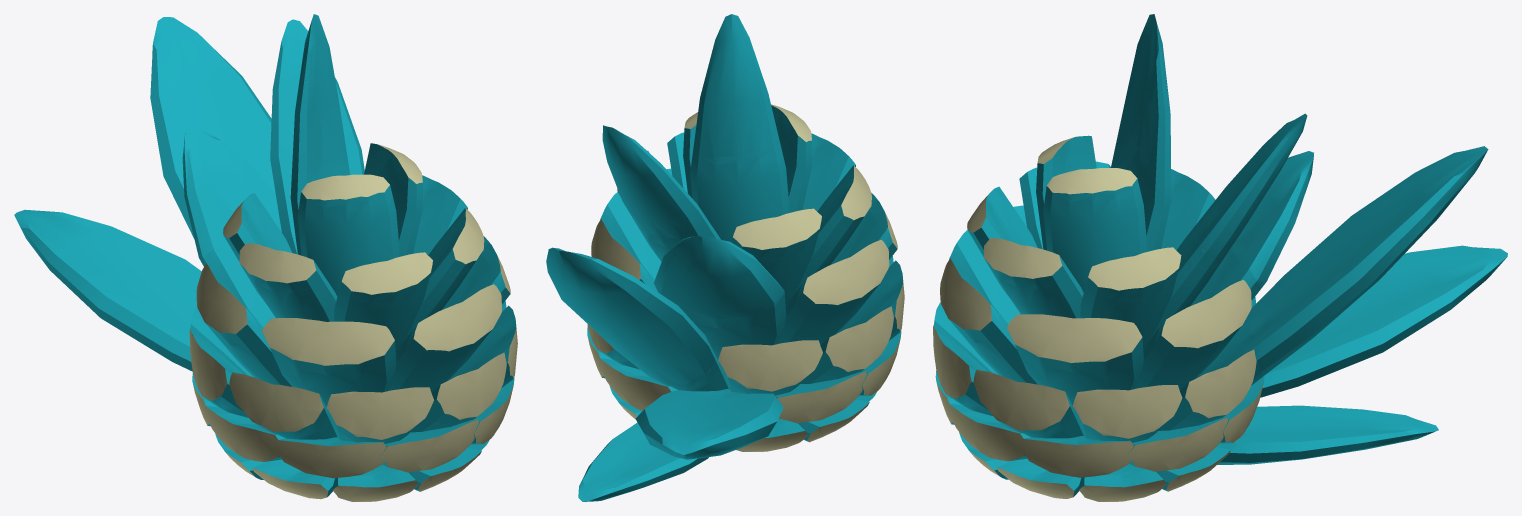
The model's file is _OLD_agave-pianta.glb.
3 views of the same model, side by side, from view 1: azimuth 30°, elevation 25°; view 2: azimuth 150°, elevation 25°; view 3: azimuth 270°, elevation 25° (orthographic). The views are drawn at different scales.
Visible parts, largest first — view 1: agave-04.001, agave-05.001, agave-03.001, foglia-agave-02, agave-06.001, foglia-agave-03, agave-02.001, foglia-agave-04, agave-01.001, foglia-agave-06, foglia-agave-05; view 2: agave-04.001, agave-05.001, foglia-agave-03, agave-03.001, agave-06.001, foglia-agave-06, foglia-agave-04, foglia-agave-02, agave-02.001, foglia-agave-05, foglia-agave-01, agave-01.001; view 3: agave-04.001, agave-05.001, agave-03.001, foglia-agave-03, agave-06.001, foglia-agave-02, agave-02.001, foglia-agave-01, agave-01.001, foglia-agave-06, foglia-agave-05, foglia-agave-04.
Part boxes in pixels (left/top/right/bottom): agave-04.001: left=196, top=211, right=510, bottom=407; agave-05.001: left=223, top=168, right=484, bottom=351; agave-03.001: left=189, top=301, right=517, bottom=443; foglia-agave-02: left=14, top=209, right=201, bottom=371; agave-06.001: left=290, top=143, right=422, bottom=296; foglia-agave-03: left=150, top=17, right=275, bottom=238; agave-02.001: left=192, top=373, right=514, bottom=478; foglia-agave-04: left=182, top=127, right=278, bottom=266; agave-01.001: left=215, top=434, right=489, bottom=501; foglia-agave-06: left=292, top=14, right=345, bottom=170; foglia-agave-05: left=270, top=19, right=364, bottom=184; agave-04.001: left=591, top=168, right=897, bottom=359; agave-05.001: left=617, top=132, right=871, bottom=305; foglia-agave-03: left=546, top=247, right=715, bottom=383; agave-03.001: left=587, top=256, right=904, bottom=395; agave-06.001: left=683, top=104, right=811, bottom=242; foglia-agave-06: left=693, top=14, right=779, bottom=157; foglia-agave-04: left=654, top=235, right=784, bottom=319; foglia-agave-02: left=635, top=392, right=783, bottom=459; agave-02.001: left=587, top=327, right=901, bottom=423; foglia-agave-05: left=602, top=125, right=707, bottom=238; foglia-agave-01: left=578, top=422, right=708, bottom=501; agave-01.001: left=609, top=385, right=876, bottom=451; agave-04.001: left=940, top=205, right=1259, bottom=405; agave-05.001: left=967, top=161, right=1225, bottom=348; agave-03.001: left=933, top=297, right=1265, bottom=442; foglia-agave-03: left=1257, top=146, right=1488, bottom=376; agave-06.001: left=1036, top=135, right=1170, bottom=292; foglia-agave-02: left=1260, top=245, right=1507, bottom=397; agave-02.001: left=935, top=371, right=1264, bottom=477; foglia-agave-01: left=1217, top=405, right=1438, bottom=464; agave-01.001: left=959, top=432, right=1238, bottom=501; foglia-agave-06: left=1117, top=14, right=1170, bottom=177; foglia-agave-05: left=1201, top=113, right=1307, bottom=259; foglia-agave-04: left=1238, top=151, right=1313, bottom=289.
Size of the model in its own units: 0.8399 by 1.17 by 1.39.
